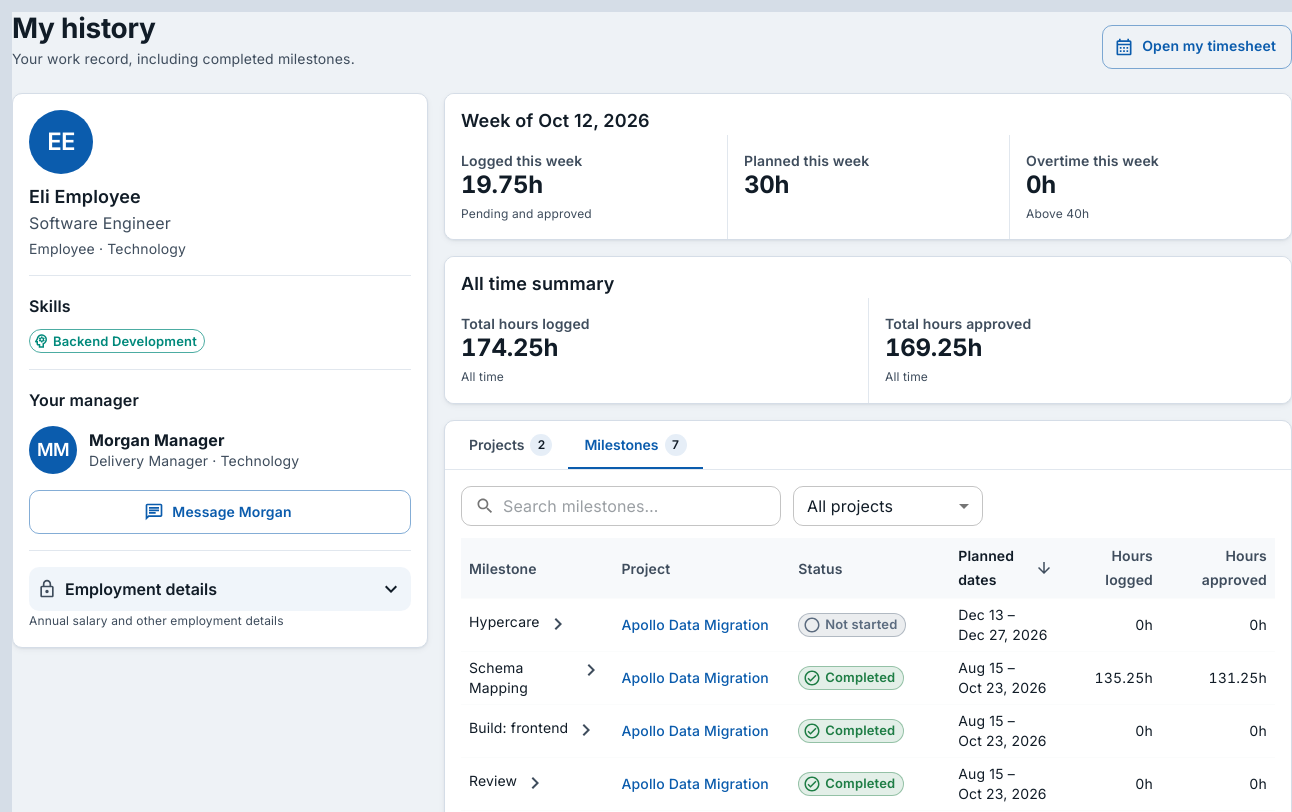
it: My history: final review fixes › a salary of null reads as a dash once Employment details is opened, never $0
Click the button "Employment details". click: [220, 589]
box: [29, 567, 411, 611]
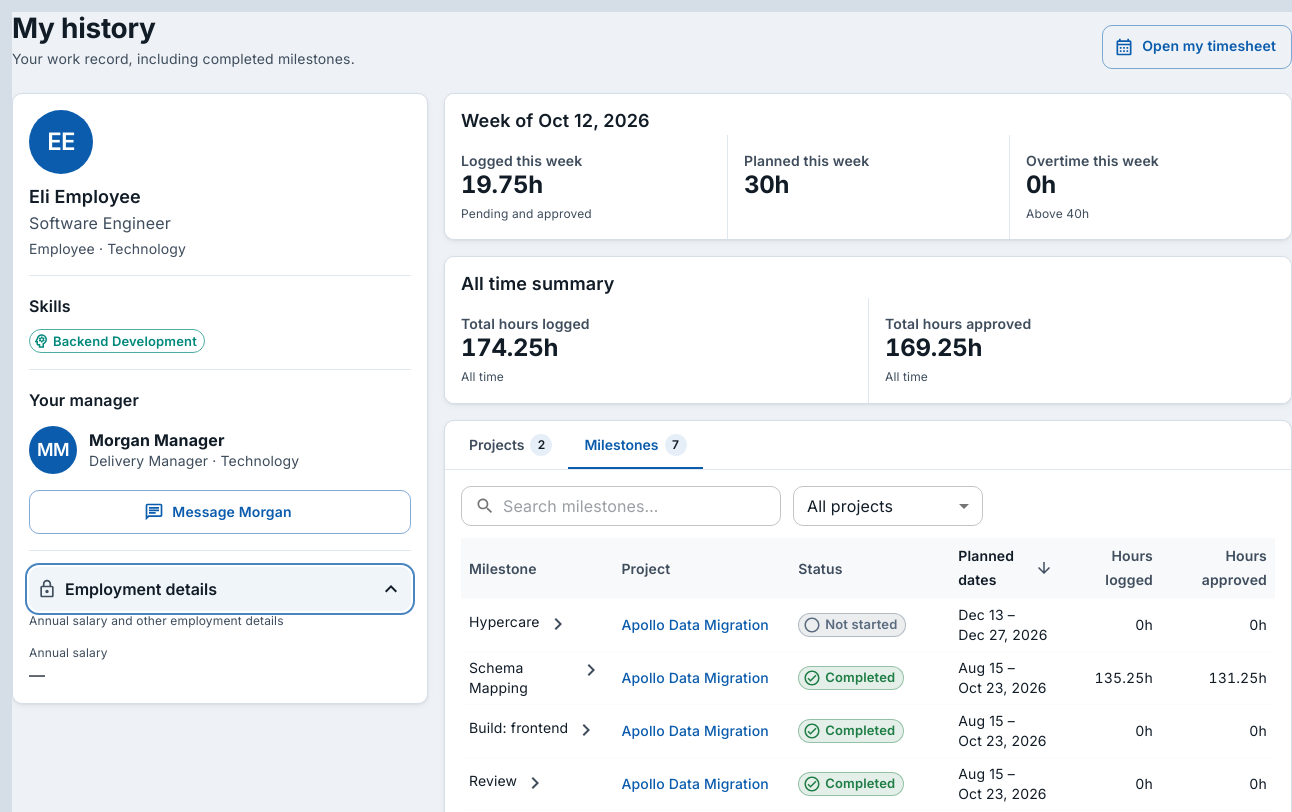
Check: the text "Annual salary" is shown, box [29, 645, 108, 660]
Check: the text "—" is shown, box [29, 665, 45, 685]
